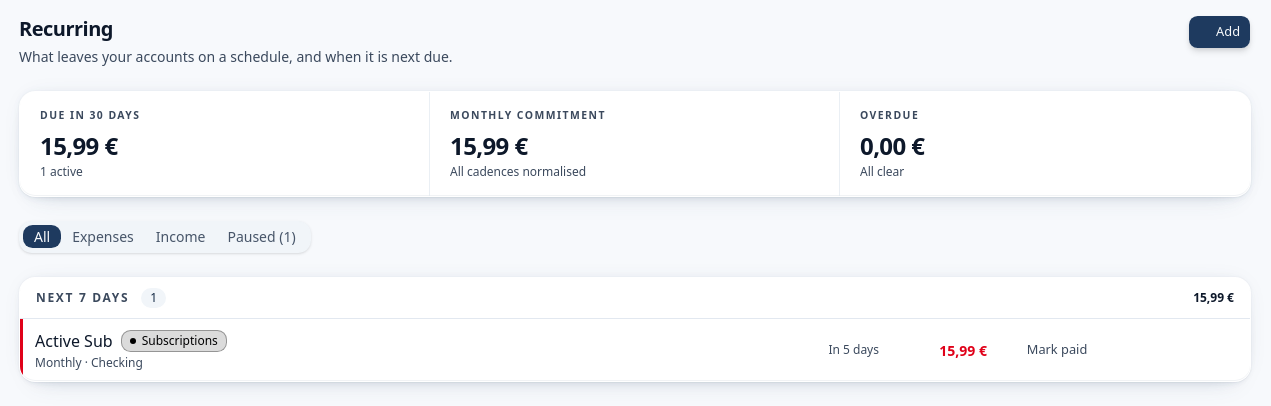
Test: RecurringPage › keeps paused items out of the agenda until their tab is chosen
Check: the text "Active Sub" is shown, box x1=35 y1=329 x2=113 y2=353
Check: the text "Old Magazine" is not shown
Click the tab "Paused (1)" at (262, 237), box x1=216 y1=225 x2=307 y2=248
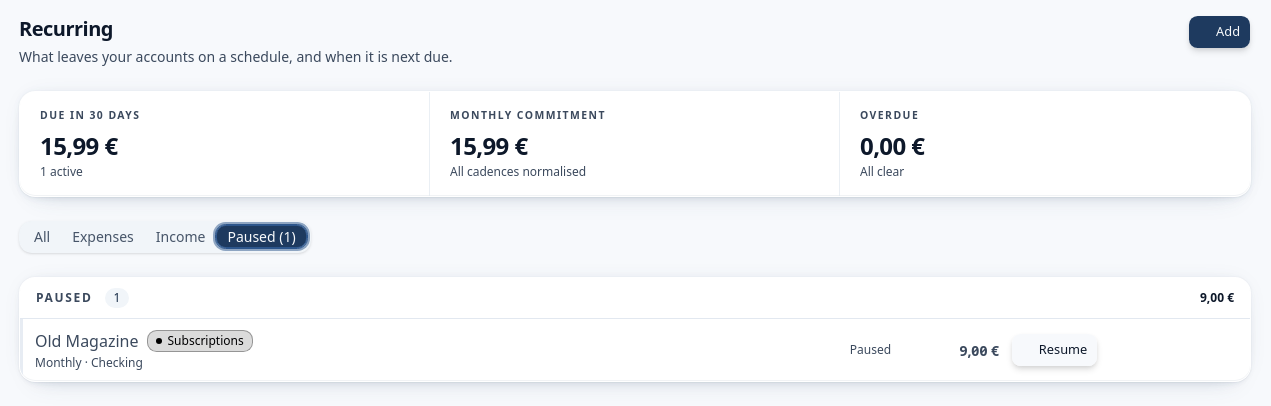
Check: the text "Old Magazine" is shown, box x1=35 y1=329 x2=138 y2=353
Check: the button "Resume" is shown, box x1=1011 y1=333 x2=1098 y2=367
